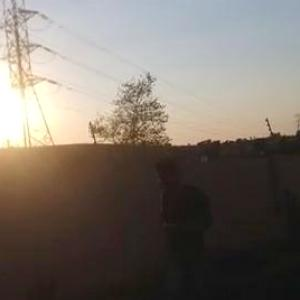follow: (149, 152, 215, 299)
